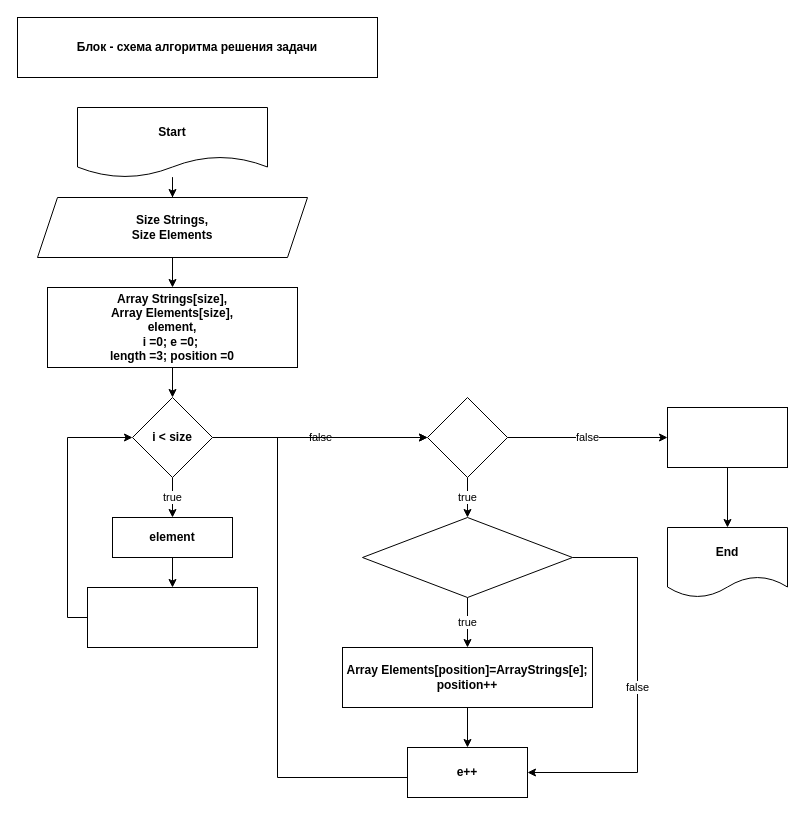
Image size: 805x815. Some labels were removed from this diagram. The box of each missing label's shape, as (x1, y1, x2, y2) in pixels:
Array Elements: (666, 406, 788, 468)
Array Strings[e]Length <= length: (362, 516, 572, 598)
Array Strings[i]=element; i++: (86, 586, 258, 648)
e < size: (426, 396, 508, 478)
